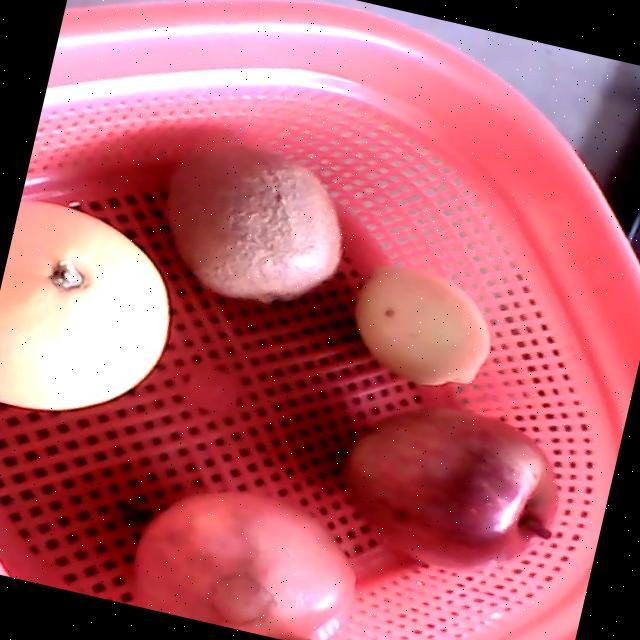apple: (341, 408, 557, 571)
kiwi: (167, 145, 340, 304)
lemon: (354, 268, 486, 385)
orange: (0, 200, 167, 409)
pomegranate: (131, 490, 356, 640)
